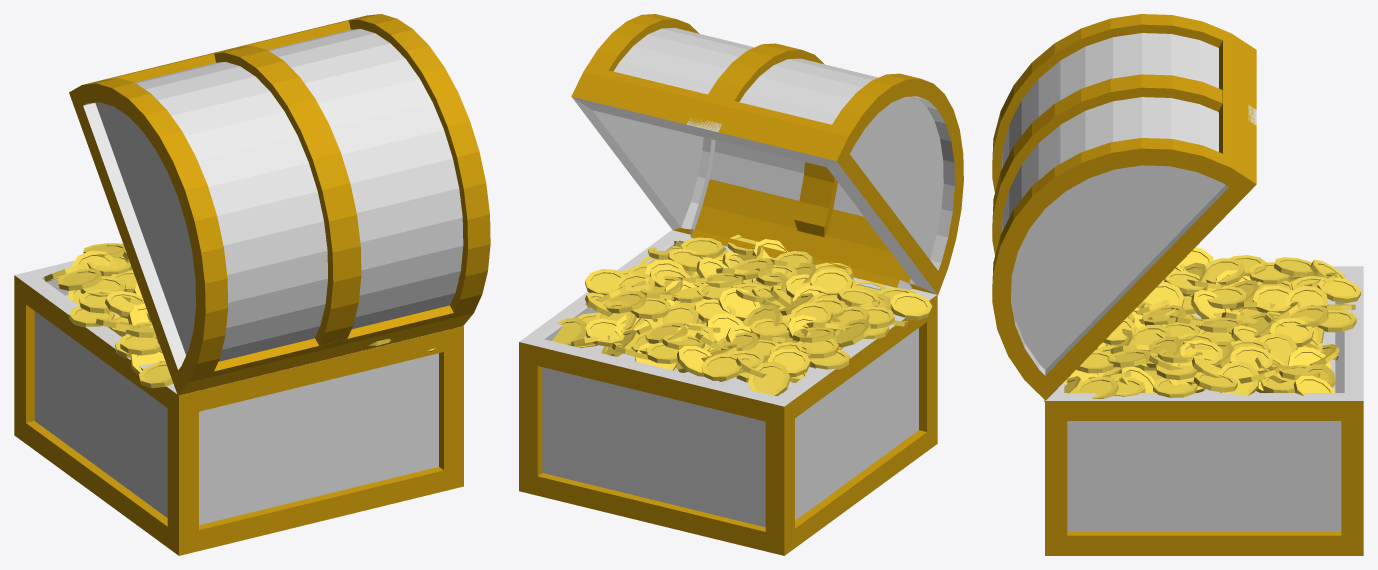
File: treasurechest-2.fbx
3 views of the same model, side by side, from view 1: azimuth 30°, elevation 25°; view 2: azimuth 150°, elevation 25°; view 3: azimuth 270°, elevation 25° (orthographic). The views are drawn at different scales.
Parts seen in each view (by area): view 1: kapak, body, body.001; view 2: kapak, body, body.001; view 3: kapak, body, body.001.
Boxes of the visible parts, <box> form: kapak: <box>69,14,490,395</box>; body: <box>14,260,463,555</box>; body.001: <box>44,243,435,388</box>; kapak: <box>571,14,963,294</box>; body: <box>519,230,937,555</box>; body.001: <box>552,234,932,395</box>; kapak: <box>992,14,1256,400</box>; body: <box>1045,266,1363,555</box>; body.001: <box>1044,247,1361,402</box>.
Size of the model in its own units: 211 by 282 by 233.
